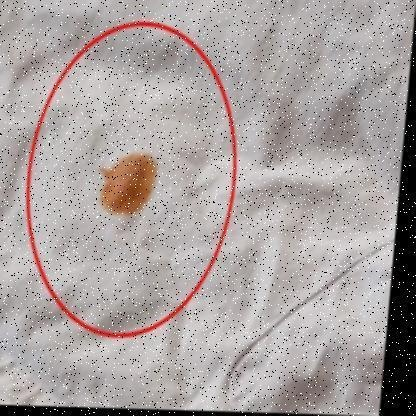kimchi: (91, 138, 170, 232)
